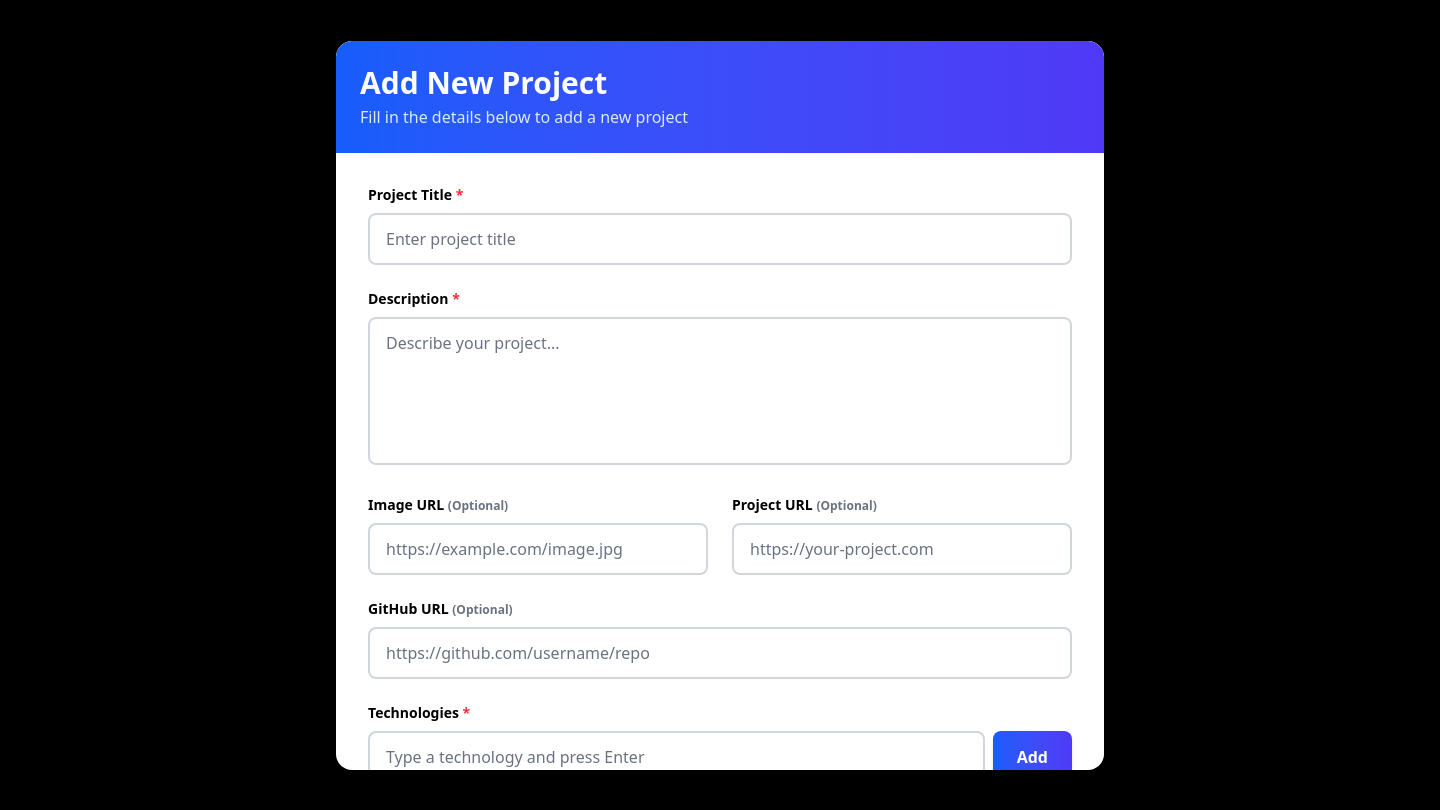
Test: ProjectForm Component › validates URL format
Type "not-a-url" into the field labelled "Image URL (Optional)".
click(538, 548); type("not-a-url")  # box left=368, top=522, right=708, bottom=574
(page scrolled)
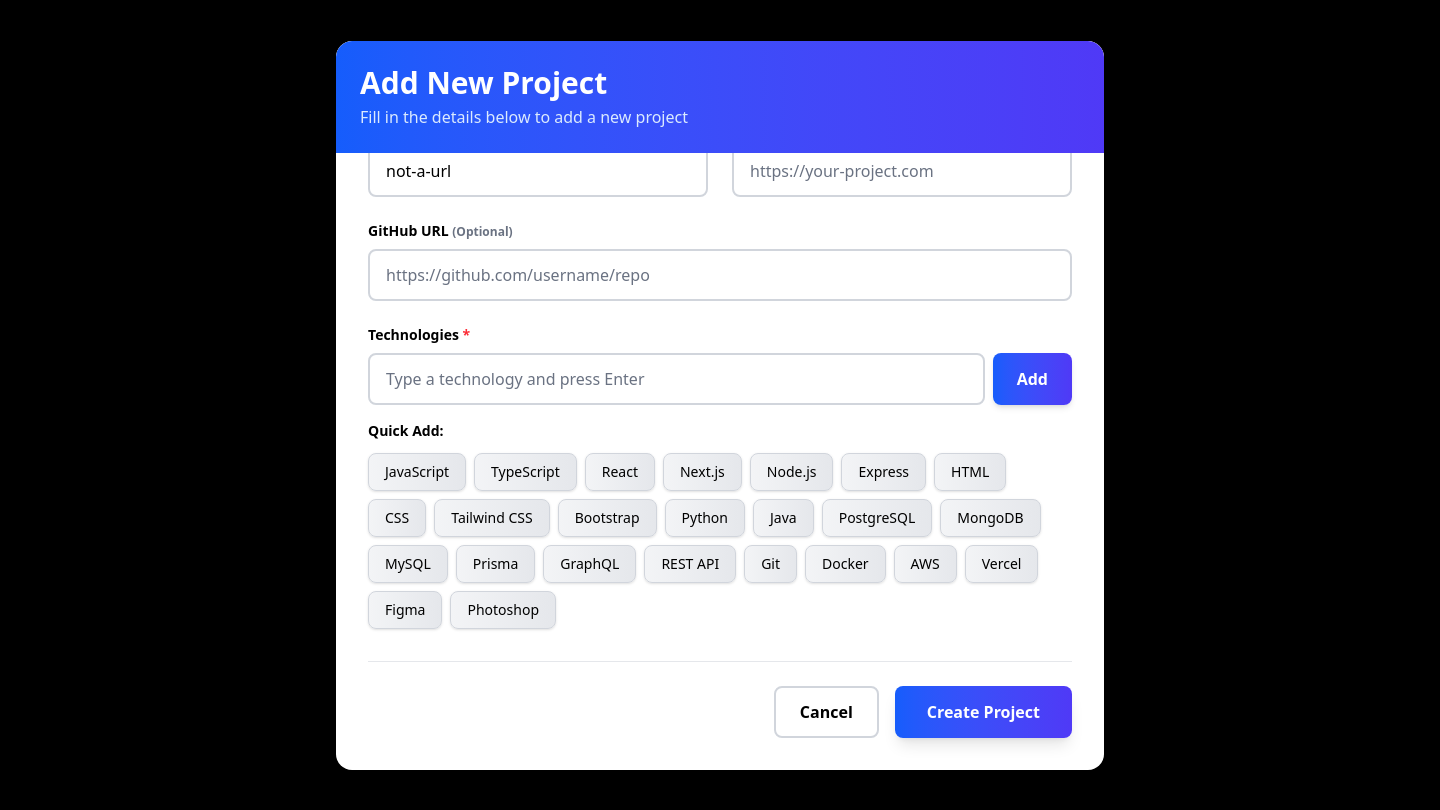
Click the button "Create Project".
click(983, 712)  # box left=895, top=686, right=1072, bottom=738
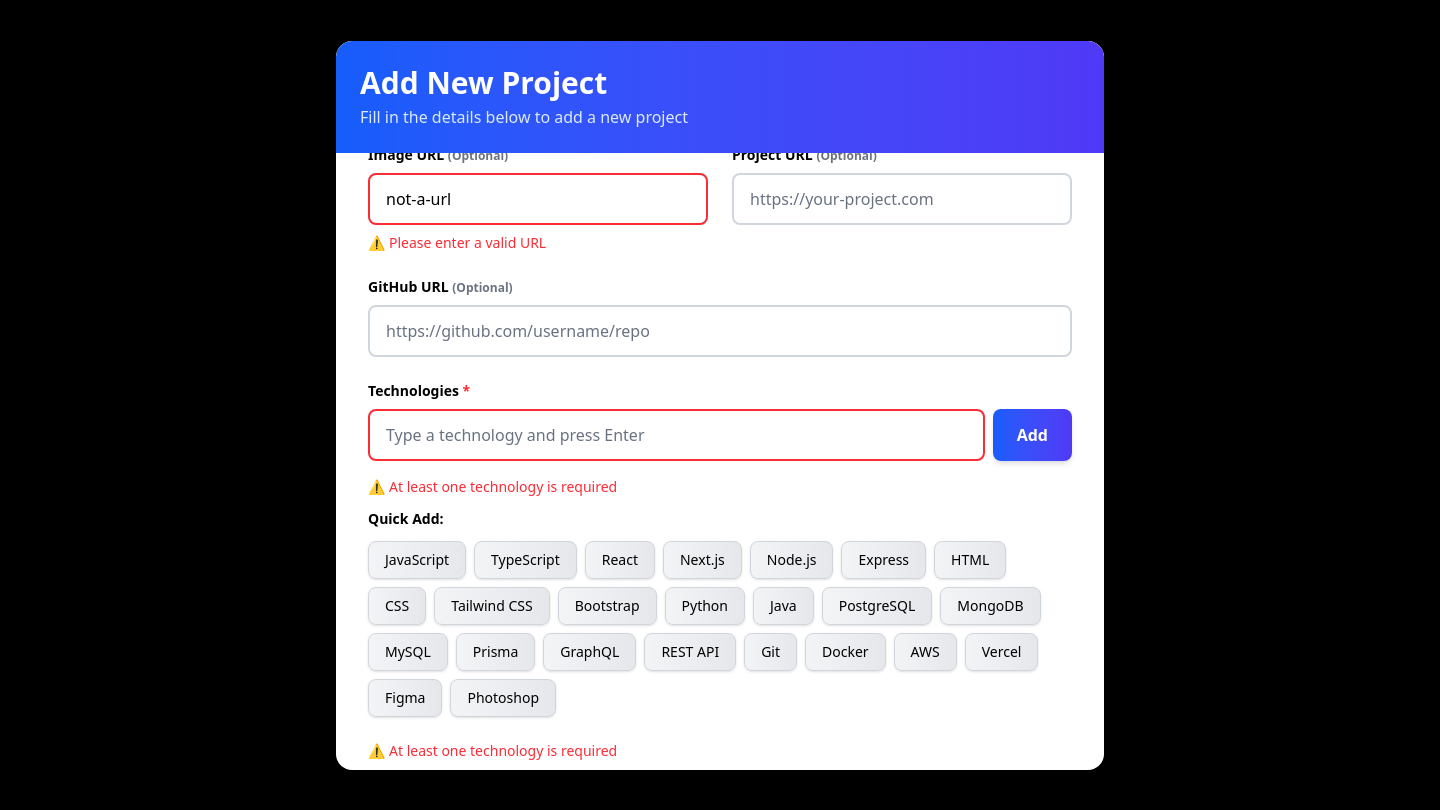
Expected: the text "Please enter a valid URL" is shown, left=389, top=232, right=546, bottom=252
